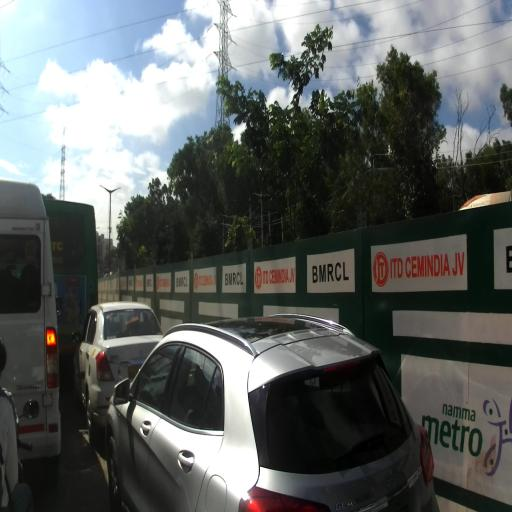street_light_0: (99, 185, 112, 197), (110, 186, 122, 198), (96, 226, 100, 230)
